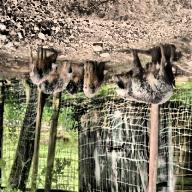boar: (113, 43, 176, 111), (80, 57, 112, 99), (25, 49, 62, 83), (39, 61, 77, 94)
